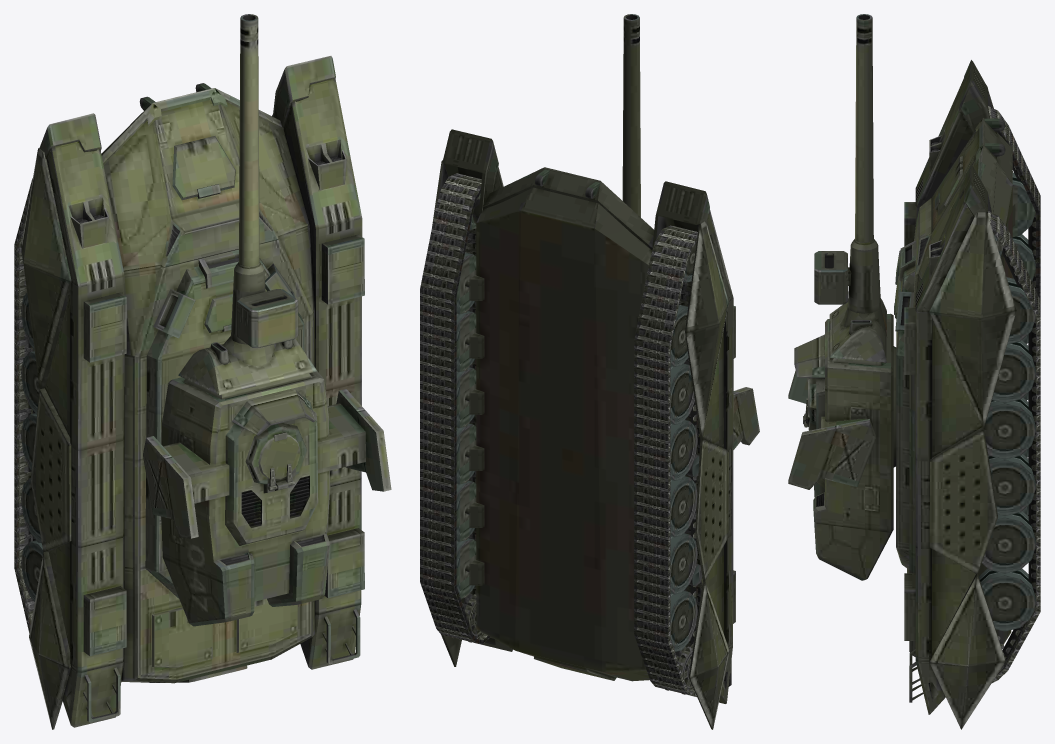
3 views of the same model, side by side, from view 1: azimuth 30°, elevation 25°; view 2: azimuth 150°, elevation 25°; view 3: azimuth 270°, elevation 25° (orthographic). The views are drawn at different scales.
Visible parts, largest first — view 1: hull, turret_01, gun_01, chassis_track_L, chassis_wheel_L_07, chassis_wheel_L_04, chassis_wheel_L_06, chassis_wheel_L_05; view 2: hull, chassis_track_L, chassis_track_R, gun_01, chassis_wheel_L_06, chassis_wheel_L_04, chassis_wheel_L_05, chassis_wheel_L_07, turret_01, chassis_wheel_L_03, chassis_wheel_R_03, chassis_wheel_R_06 (+5 smaller); view 3: hull, turret_01, gun_01, chassis_track_R, chassis_wheel_R_07, chassis_wheel_R_04, chassis_wheel_R_06, chassis_wheel_R_05, chassis_wheel_R_03, chassis_track_L, chassis_wheel_R_02, chassis_wheel_L_02 (+1 smaller).
Boxes of the visible parts, x1,y1,x2,y2 form: hull: [21, 56, 364, 729]; turret_01: [143, 371, 391, 626]; gun_01: [178, 14, 317, 395]; chassis_track_L: [14, 178, 35, 632]; chassis_wheel_L_07: [21, 540, 43, 601]; chassis_wheel_L_04: [21, 351, 39, 414]; chassis_wheel_L_06: [21, 478, 41, 543]; chassis_wheel_L_05: [21, 413, 36, 470]; hull: [432, 129, 735, 729]; chassis_track_L: [634, 225, 702, 696]; chassis_track_R: [420, 173, 490, 644]; gun_01: [622, 14, 640, 217]; chassis_wheel_L_06: [670, 533, 697, 594]; chassis_wheel_L_04: [670, 420, 697, 480]; chassis_wheel_L_05: [670, 476, 697, 537]; chassis_wheel_L_07: [670, 591, 697, 651]; turret_01: [733, 387, 759, 449]; chassis_wheel_L_03: [670, 363, 694, 424]; chassis_wheel_R_03: [456, 311, 476, 372]; chassis_wheel_R_06: [456, 480, 476, 541]; hull: [894, 60, 1016, 729]; turret_01: [788, 313, 896, 580]; gun_01: [814, 14, 887, 362]; chassis_track_R: [987, 211, 1040, 682]; chassis_wheel_R_07: [978, 568, 1035, 631]; chassis_wheel_R_04: [984, 397, 1035, 459]; chassis_wheel_R_06: [982, 511, 1035, 573]; chassis_wheel_R_05: [988, 454, 1035, 515]; chassis_wheel_R_03: [992, 340, 1035, 403]; chassis_track_L: [988, 106, 1040, 515]; chassis_wheel_R_02: [1006, 277, 1035, 344]; chassis_wheel_L_02: [1012, 172, 1035, 236].
Size of the model in its own units: 3.63 by 7.69 by 2.71.
2 materials, 2 textured.
